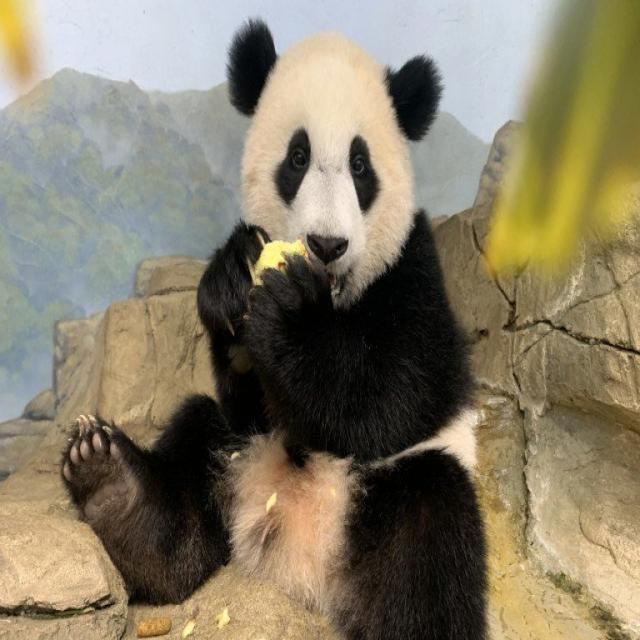Panda: (45, 11, 499, 640)
